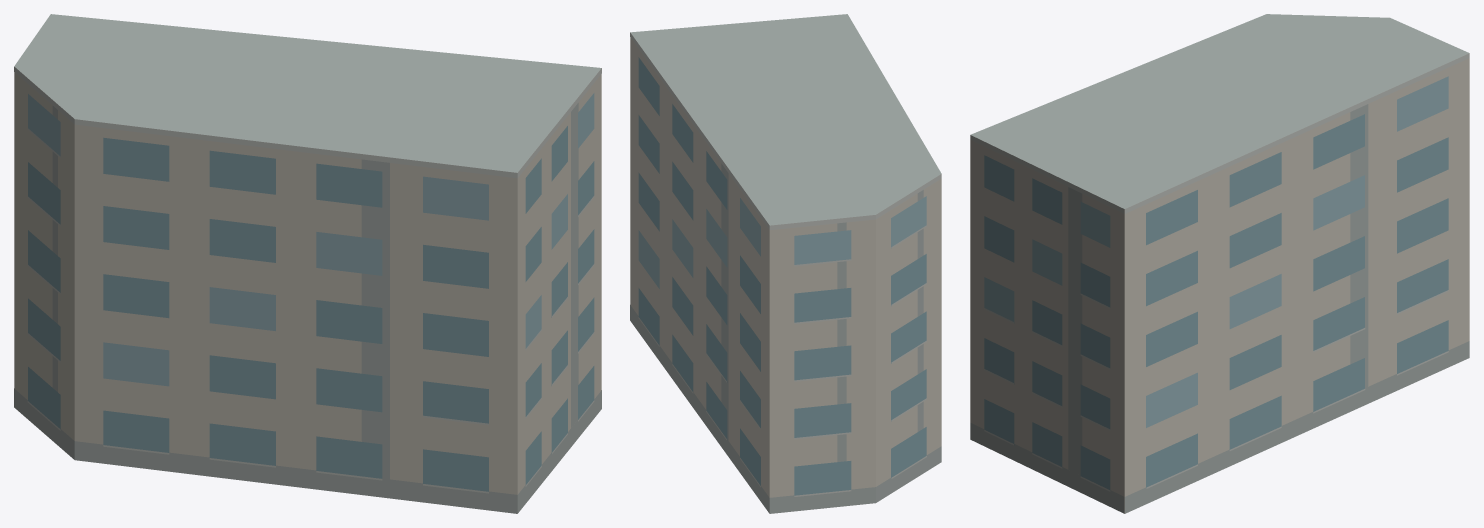
The model's file is survey-upis-32641588.glb.
The picture shows the model from 3 angles, left to right: view 1: azimuth 30°, elevation 25°; view 2: azimuth 150°, elevation 25°; view 3: azimuth 270°, elevation 25°; orthographic projection. The views are drawn at different scales.
Visible parts, largest first — view 1: survey-upis-32641588.tmp; view 2: survey-upis-32641588.tmp; view 3: survey-upis-32641588.tmp.
Part boxes in pixels (x1,y1,x2,y2): survey-upis-32641588.tmp: [14, 14, 601, 513]; survey-upis-32641588.tmp: [630, 14, 941, 513]; survey-upis-32641588.tmp: [970, 14, 1469, 513].
Bounding box in the file's own units: 20.96 × 15.25 × 22.66.
